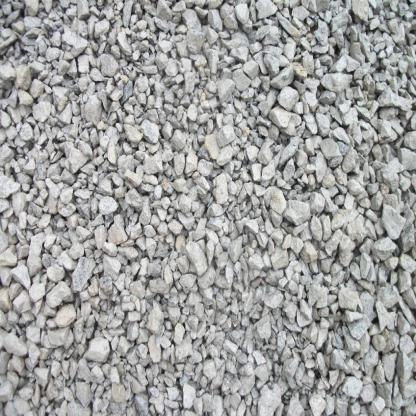Igneous_Diorite: (66, 252, 99, 295), (135, 387, 153, 415)
